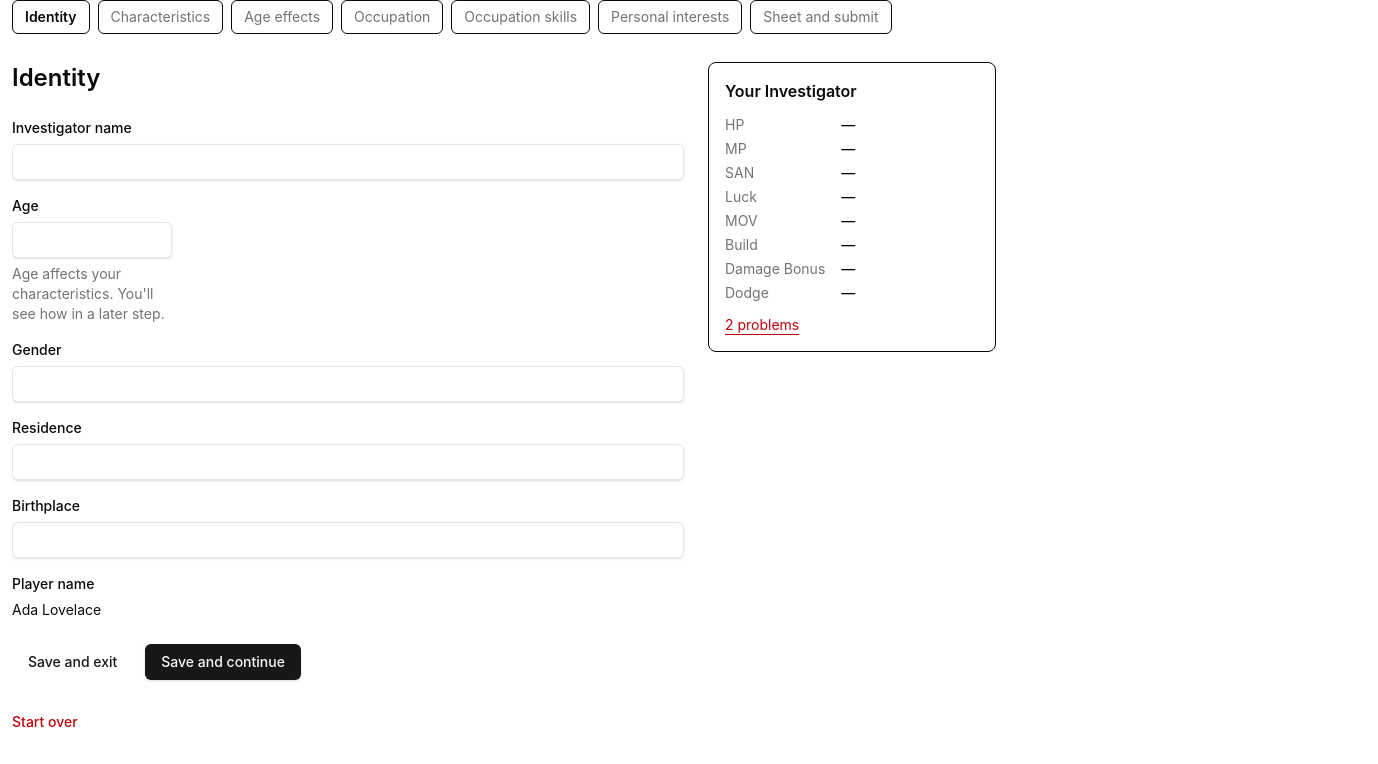
Test case: InvestigatorWizard › UX-4 and A11Y-4: "Save and continue" on a step with errors stays and shows the error summary
This screenshot has width=1378, height=764.
Step 1. Click the button "Save and continue" → (223,662), box [145, 644, 301, 680]
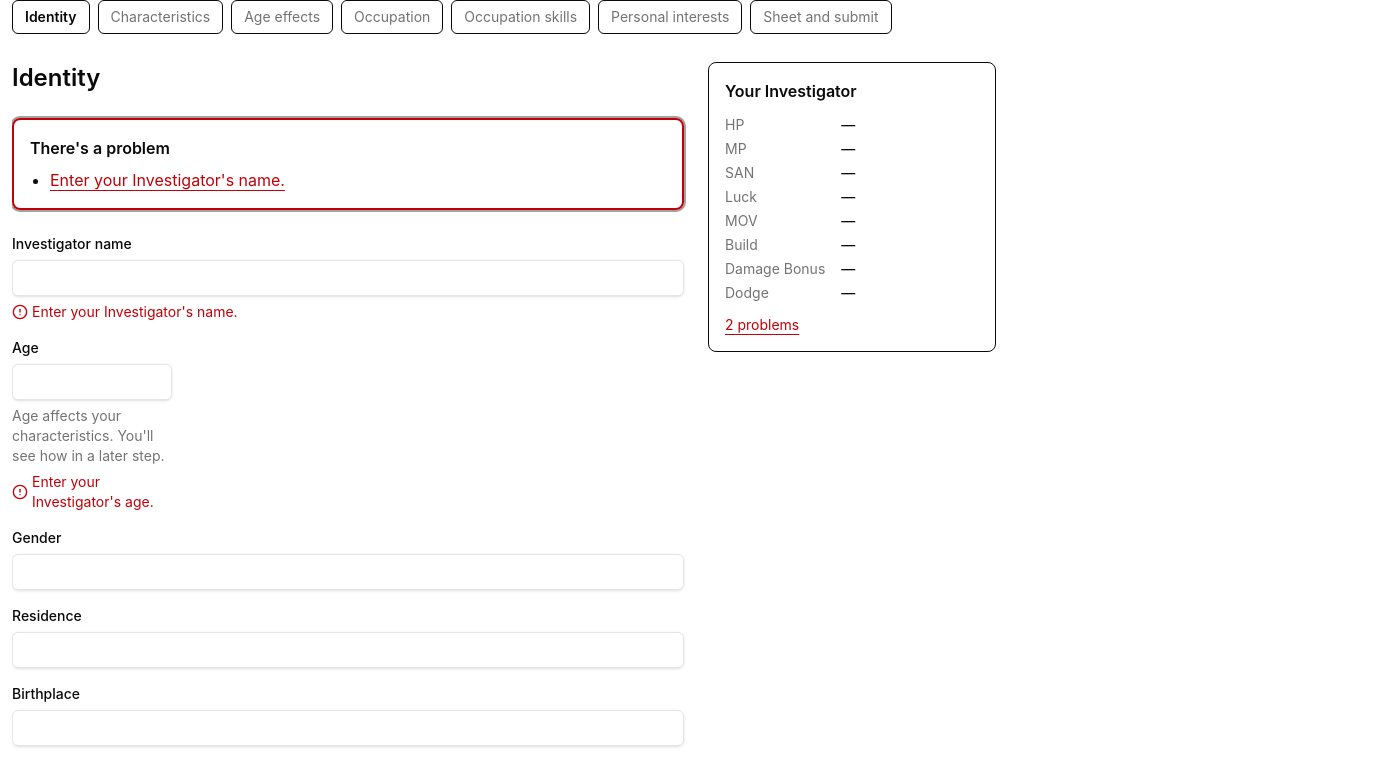
Expected: the link "Enter your Investigator's name." is shown, [50, 170, 285, 190]
